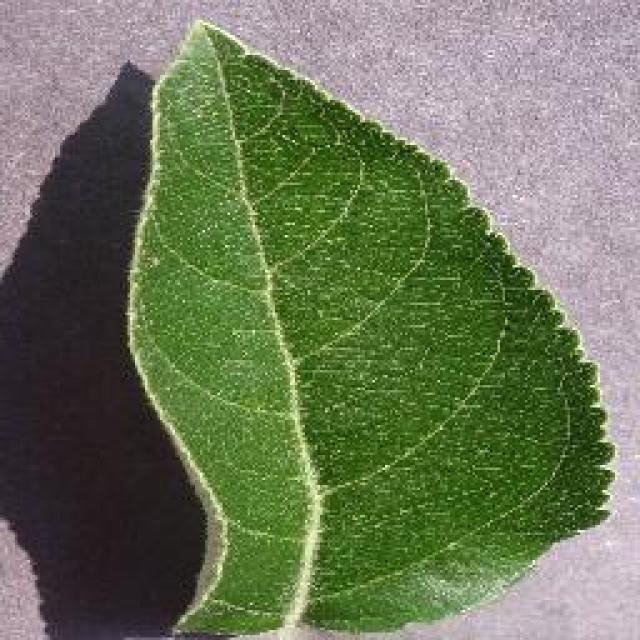apple healthy: (120, 15, 618, 637)
